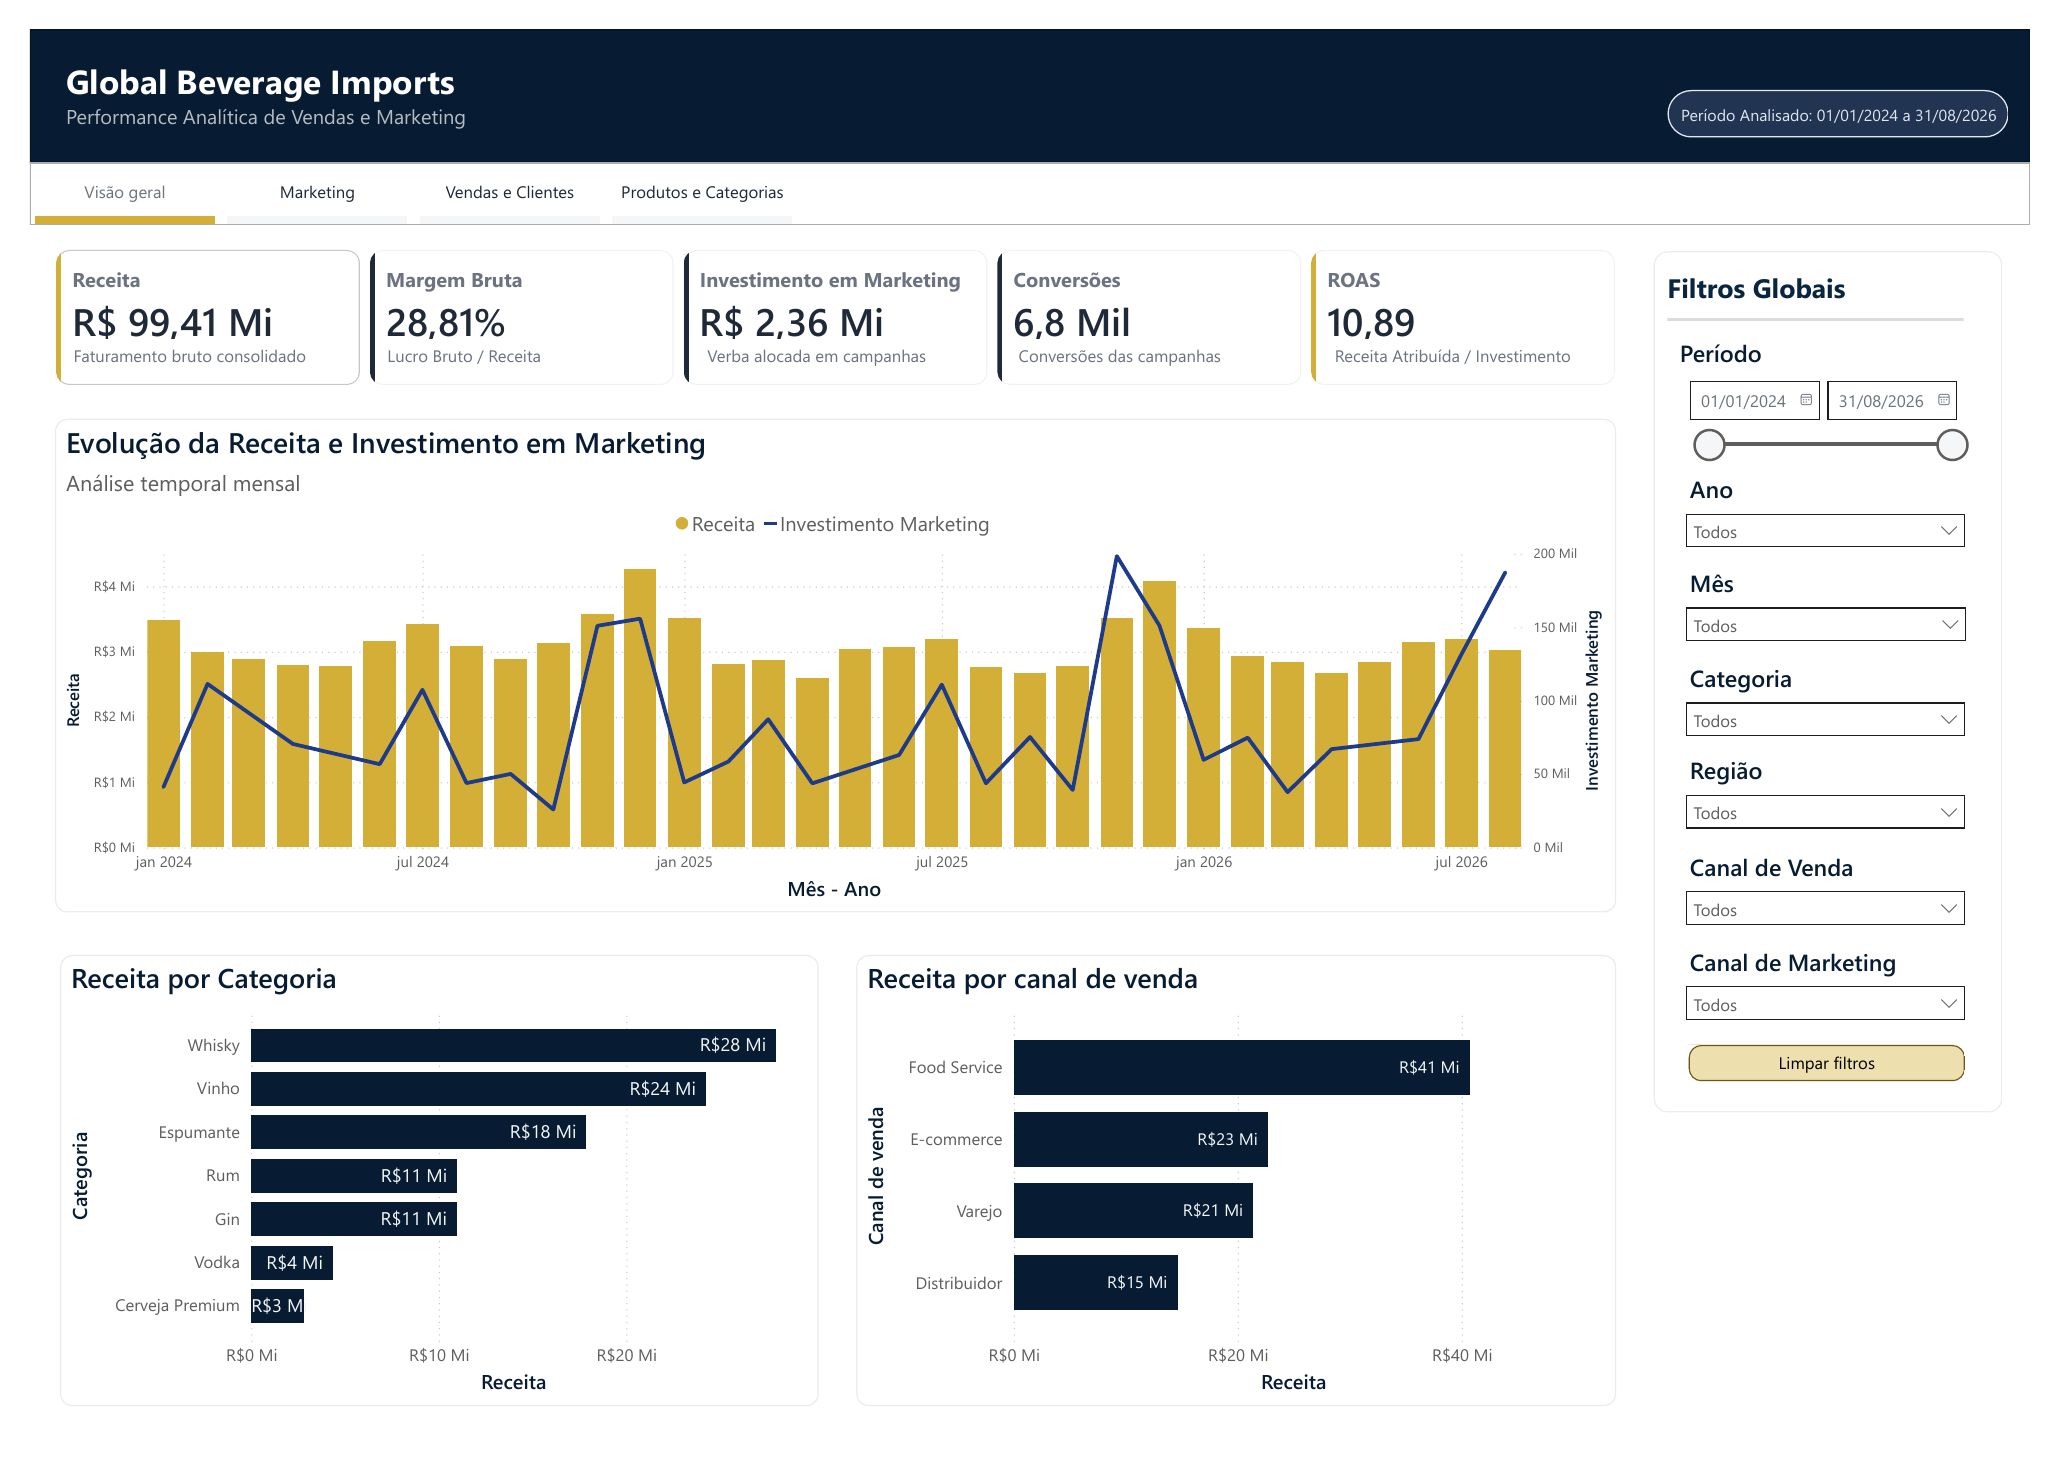

The page's visual inventory and layout, read from the dashboard file:
{"tool":"powerbi","page":{"name":"Visão geral","canvas":[1600,1120],"ordinal":0},"visuals":[{"type":"group","id":"g1","title":"Grupo 4","box":[0,0,1600,106.2],"z":0,"group":"g2"},{"type":"shape","box":[0,0,1600,106.2],"z":0,"group":"g1"},{"type":"textbox","box":[1315.6,53.4,273.3,32.2],"z":0,"group":"g3"},{"type":"cardVisual","fields":{"Data":["_Medidas.Receita","_Medidas.Margem Bruta","_Medidas.Investimento Marketing","_Medidas.Conversões","_Medidas.ROAS"]},"box":[14.3,168.6,1264.3,122.9],"z":0},{"type":"shape","box":[1298.6,176.5,278.8,688.8],"z":0,"group":"g5"},{"type":"group","id":"g2","title":"Grupo 5","box":[0,0,1600,156.2],"z":1000},{"type":"textbox","box":[24.4,17.8,366.7,70],"z":1000,"group":"g1"},{"type":"shape","box":[1310,47.8,273.3,37.8],"z":1000,"group":"g3"},{"type":"shape","box":[0,106.2,1600,50],"z":1000,"group":"g2"},{"type":"slicer","title":"Período","fields":{"Values":["dim_data.Date"]},"box":[1314.8,245.3,243.8,103.8],"z":1000,"group":"g5"},{"type":"group","id":"g3","title":"Grupo 3","box":[1310,47.8,278.9,37.8],"z":2000,"group":"g1"},{"type":"group","id":"g4","title":"Grupo 6","box":[4.2,110.3,606.5,45.3],"z":2000},{"type":"slicer","fields":{"Values":["dim_produto.Category"]},"box":[1314.8,500.3,242.5,73.8],"z":2000,"group":"g5"},{"type":"lineStackedColumnComboChart","title":"Evolução da Receita e Investimento em Marketing","fields":{"Category":["dim_data.Year_Month"],"Y":["_Medidas.Receita"],"Y2":["_Medidas.Investimento Marketing"]},"box":[20,311.4,1248.6,394.3],"z":3000},{"type":"slicer","fields":{"Values":["dim_cliente.Region"]},"box":[1314.8,574,242.5,77.5],"z":3000,"group":"g5"},{"type":"pageNavigator","box":[4.2,111.3,606.2,43.8],"z":3001,"group":"g4"},{"type":"pageNavigator","box":[4.2,110.3,606.5,39.4],"z":3501,"group":"g4"},{"type":"slicer","fields":{"Values":["dim_canal_vendas.Sales_Channel"]},"box":[1314.8,651.5,242.5,76.2],"z":4000,"group":"g5"},{"type":"barChart","title":"Receita por Categoria","fields":{"Category":["dim_produto.Category"],"Y":["_Medidas.Receita"]},"box":[24.3,740,607.1,361.4],"z":4000},{"type":"textbox","box":[1304.8,186.5,210,41.2],"z":5000,"group":"g5"},{"type":"barChart","title":"Receita por canal de venda","fields":{"Y":["_Medidas.Receita"],"Category":["dim_canal_vendas.Sales_Channel"]},"box":[661.4,740,607.1,361.4],"z":5000},{"type":"group","id":"g5","title":"Grupo 2","box":[1298.6,176.5,278.6,688.6],"z":6000},{"type":"shape","box":[1309.8,214,236.2,33.8],"z":6000,"group":"g5"},{"type":"textbox","box":[281.4,247.1,220,28.6],"z":7000},{"type":"slicer","title":"Período","fields":{"Values":["dim_data.Year"]},"box":[1314.8,349,242.5,75],"z":7000,"group":"g5"},{"type":"textbox","box":[30,247.1,220,28.6],"z":8000},{"type":"slicer","title":"Período","fields":{"Values":["dim_data.Month"]},"box":[1314.8,424,243.8,75],"z":8000,"group":"g5"},{"type":"textbox","box":[537.1,247.1,220,28.6],"z":9000},{"type":"slicer","fields":{"Values":["dim_canal_marketing.Marketing_Channel"]},"box":[1314.8,727.7,242.5,83.8],"z":9000,"group":"g5"},{"type":"textbox","box":[785.7,247.1,220,28.6],"z":10000},{"type":"actionButton","box":[1326.1,811.5,221.2,28.8],"z":10000,"group":"g5"},{"type":"textbox","box":[1038.6,247.1,220,28.6],"z":11000}]}

Visuals, with their boxes in screenshot pixels (x1, y1, x2, y2), scaled from the page's 1600x1120 canvas onto the 2060x1460 screenshot:
"Grupo 4" group: 0, 0, 2059, 138
shape: 0, 0, 2059, 138
textbox: 1694, 70, 2046, 112
cardVisual - _Medidas.Receita x _Medidas.Margem Bruta: 18, 220, 1646, 380
shape: 1672, 230, 2031, 1128
"Grupo 5" group: 0, 0, 2059, 204
textbox: 31, 23, 504, 114
shape: 1687, 62, 2038, 112
shape: 0, 138, 2059, 204
"Período" slicer: 1693, 320, 2007, 455
"Grupo 3" group: 1687, 62, 2046, 112
"Grupo 6" group: 5, 144, 786, 203
slicer - dim_produto.Category: 1693, 652, 2005, 748
"Evolução da Receita e Investimento em Marketing" lineStackedColumnComboChart: 26, 406, 1633, 920
slicer - dim_cliente.Region: 1693, 748, 2005, 849
pageNavigator: 5, 145, 786, 202
pageNavigator: 5, 144, 786, 195
slicer - dim_canal_vendas.Sales_Channel: 1693, 849, 2005, 949
"Receita por Categoria" barChart: 31, 965, 813, 1436
textbox: 1680, 243, 1950, 297
"Receita por canal de venda" barChart: 852, 965, 1633, 1436
"Grupo 2" group: 1672, 230, 2031, 1128
shape: 1686, 279, 1990, 323
textbox: 362, 322, 646, 359
"Período" slicer: 1693, 455, 2005, 553
textbox: 39, 322, 322, 359
"Período" slicer: 1693, 553, 2007, 650
textbox: 692, 322, 975, 359
slicer - dim_canal_marketing.Marketing_Channel: 1693, 949, 2005, 1058
textbox: 1012, 322, 1295, 359
actionButton: 1707, 1058, 1992, 1095
textbox: 1337, 322, 1620, 359
